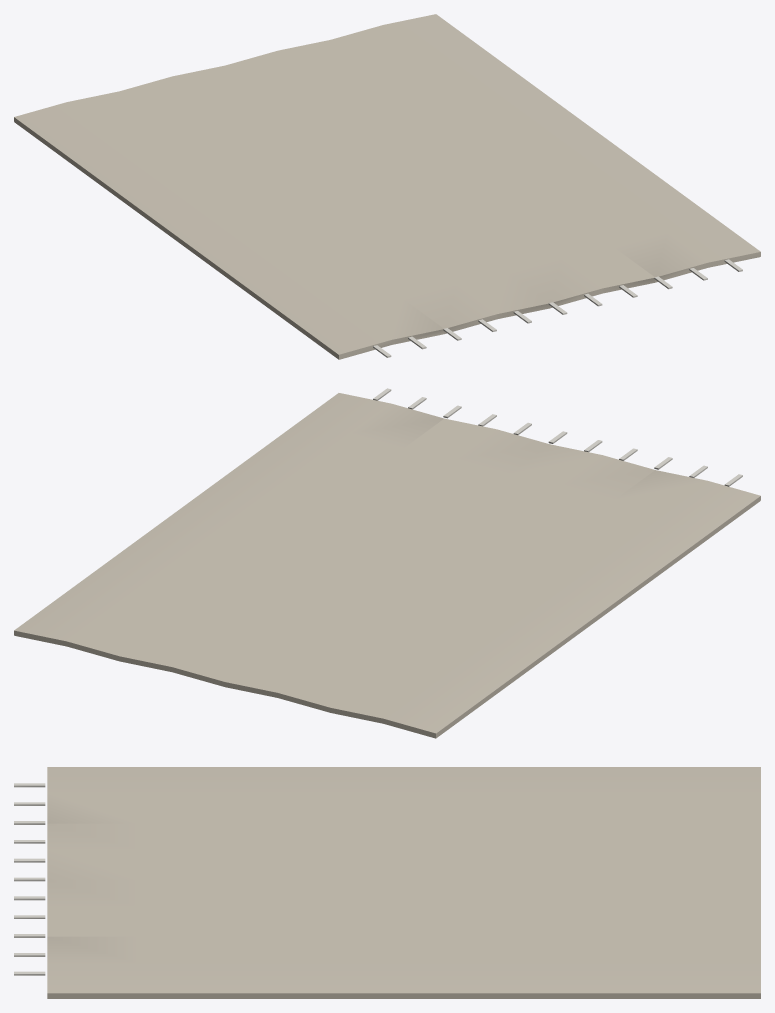
Rendered from throw_blanket.glb.
3 views of the same model, one above another, from view 1: azimuth 30°, elevation 25°; view 2: azimuth 150°, elevation 25°; view 3: azimuth 270°, elevation 25° (orthographic). The views are drawn at different scales.
Visible parts, largest first — view 1: throw_blanket; view 2: throw_blanket; view 3: throw_blanket.
Part boxes in pixels (x1,y1,x2,y2): throw_blanket: [14, 14, 760, 359]; throw_blanket: [14, 388, 760, 738]; throw_blanket: [14, 767, 760, 998].
Bounding box in the file's own units: 1.2 × 0.0195 × 1.68.
